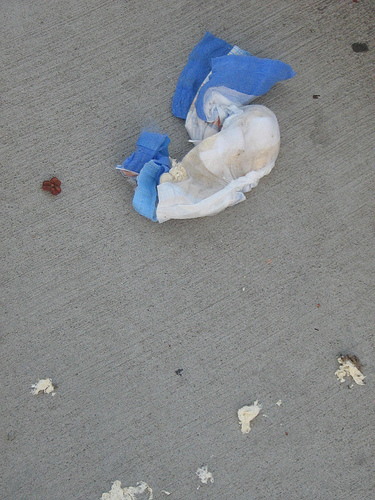litter: (114, 33, 296, 226)
